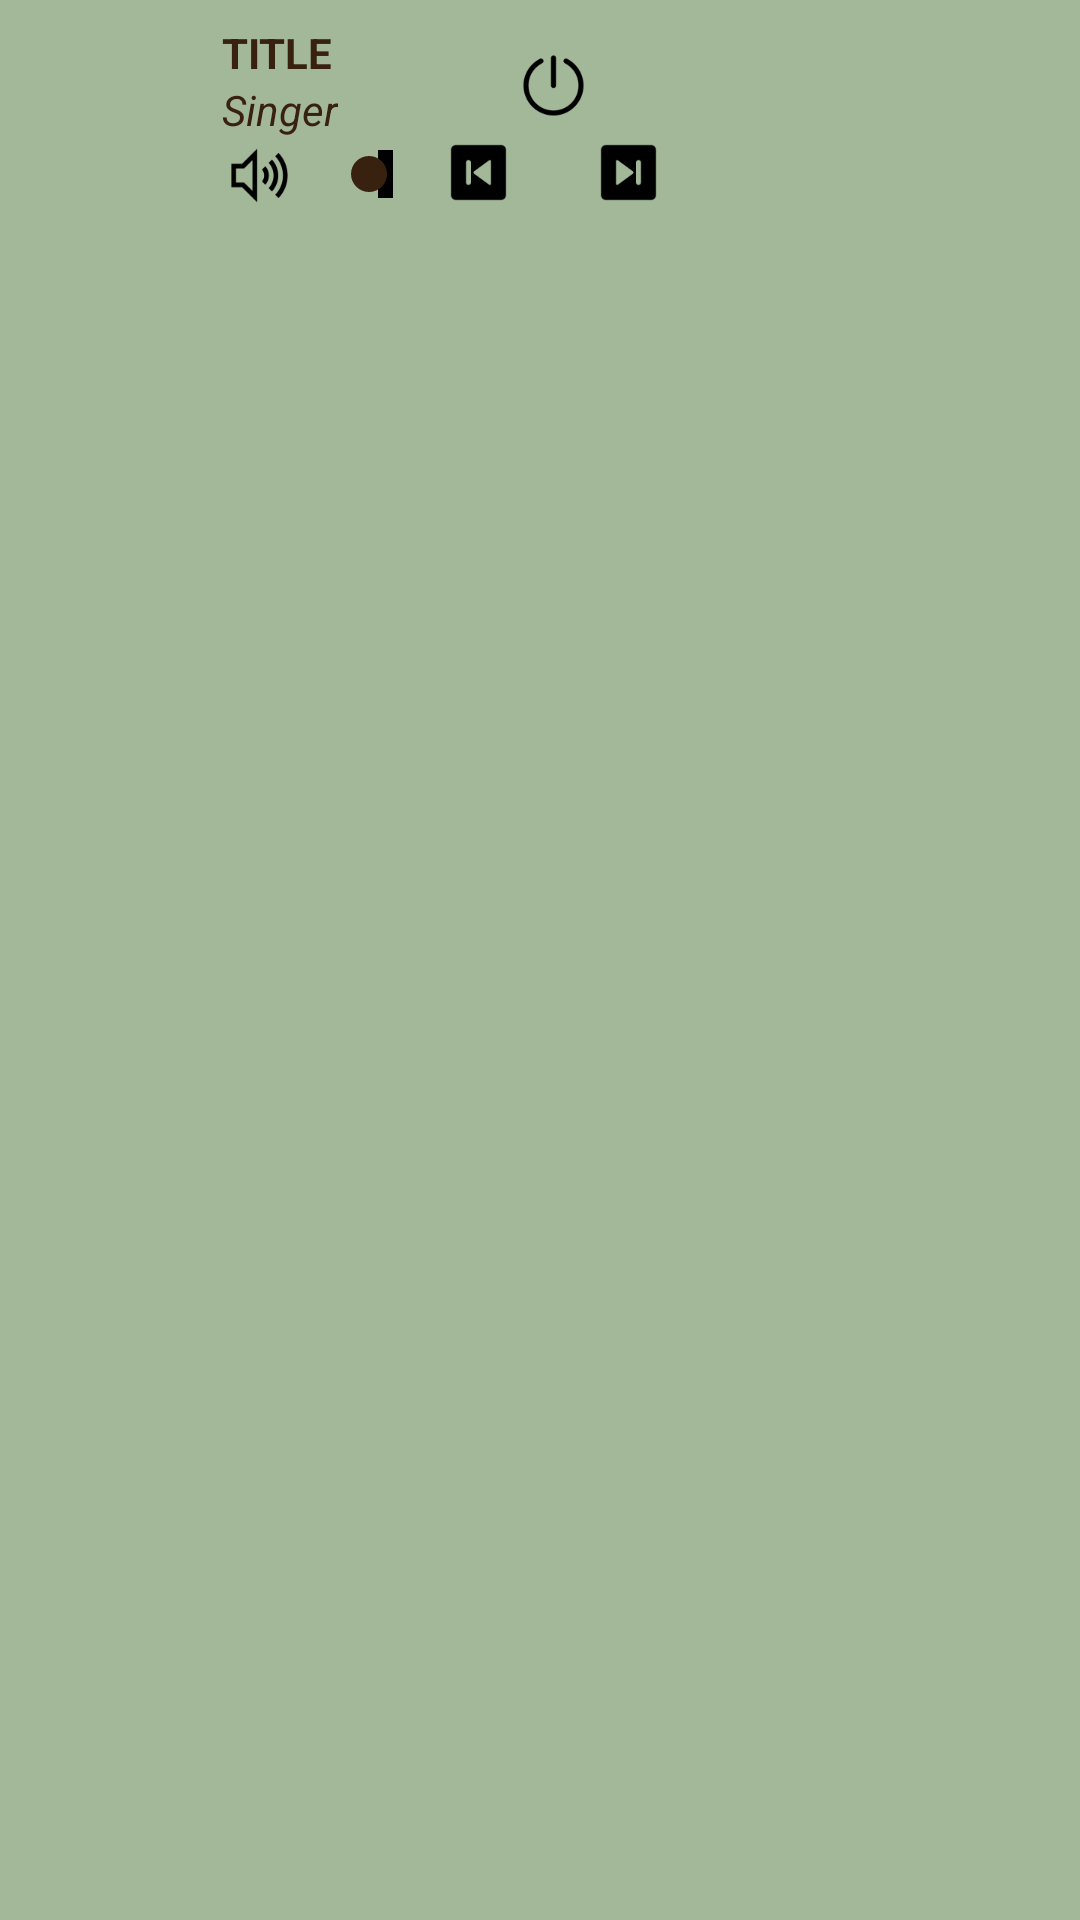

Screen size 1080x1920. Icon name, then its box in pixels as [x1, y1, x2, y2]:
audio: [231, 149, 288, 202]
stop: [523, 55, 584, 116]
